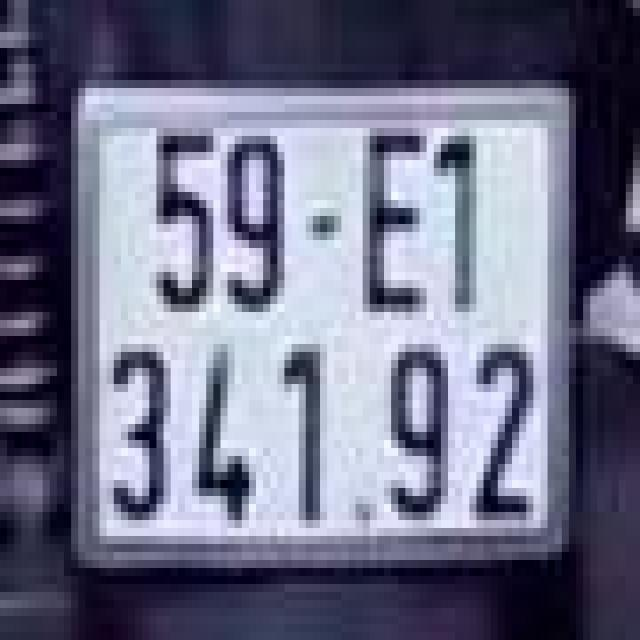1: (278, 332, 356, 524), (434, 116, 498, 340)
2: (462, 336, 548, 528)
3: (106, 328, 178, 528)
4: (188, 328, 274, 536)
5: (135, 116, 221, 316)
9: (220, 128, 298, 328), (381, 332, 458, 524)
E: (338, 112, 444, 336)
